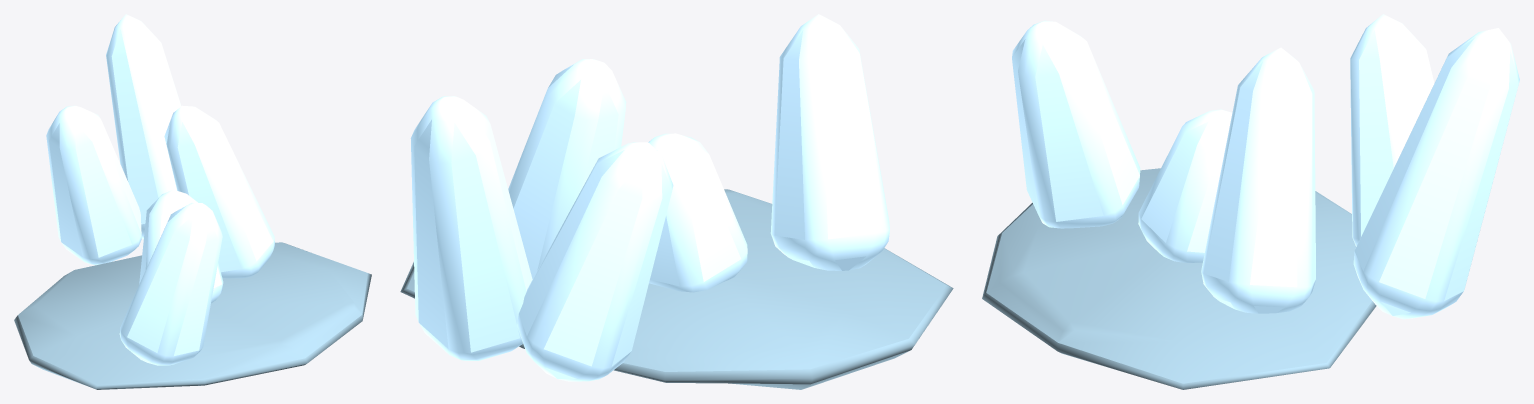
The model's file is schmutz_eis_2.fbx.
3 views of the same model, side by side, from view 1: azimuth 30°, elevation 25°; view 2: azimuth 150°, elevation 25°; view 3: azimuth 270°, elevation 25° (orthographic). The views are drawn at different scales.
Parts seen in each view (by area): view 1: schmutz_eis_2_Koerper; view 2: schmutz_eis_2_Koerper; view 3: schmutz_eis_2_Koerper.
Part boxes in pixels (x1,y1,x2,y2): schmutz_eis_2_Koerper: (14,14,371,389); schmutz_eis_2_Koerper: (400,14,953,389); schmutz_eis_2_Koerper: (982,14,1519,389).
Bounding box in the file's own units: 0.9528 × 0.5938 × 0.9618.
